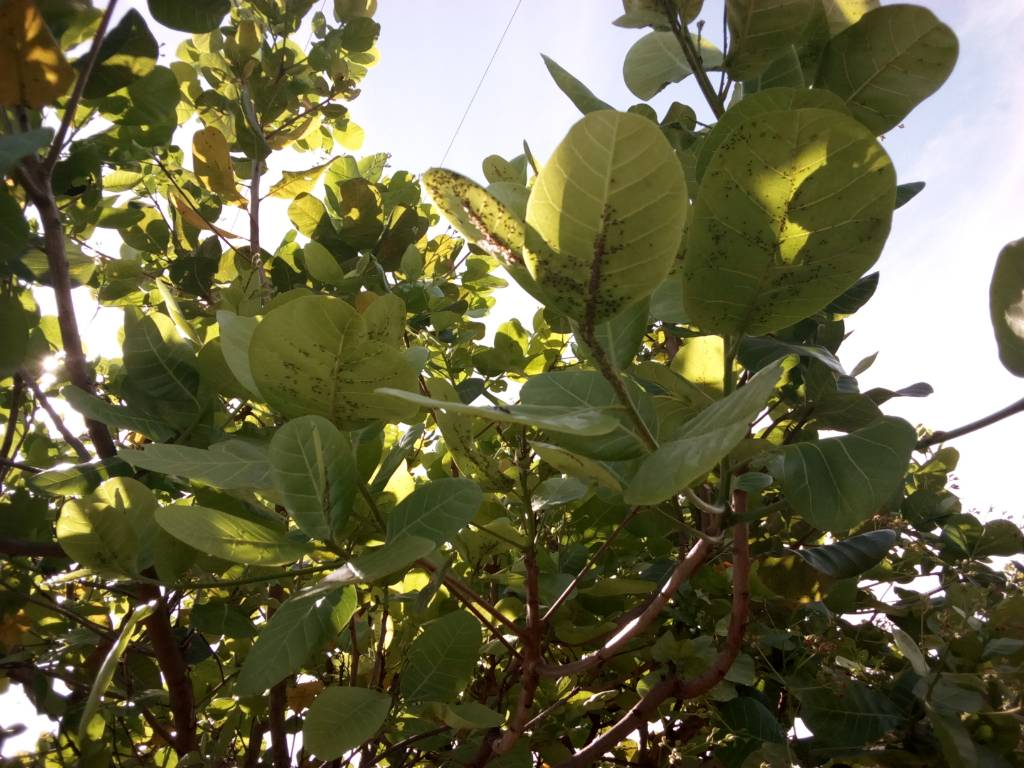Anthracnose: (688, 109, 894, 339), (520, 116, 683, 332), (261, 315, 396, 429), (418, 162, 529, 272)
